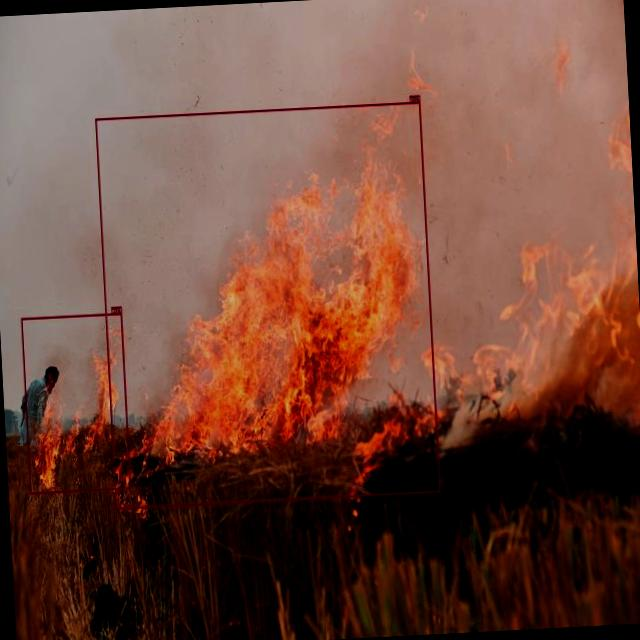fire: (96, 101, 440, 508), (22, 312, 132, 494)
